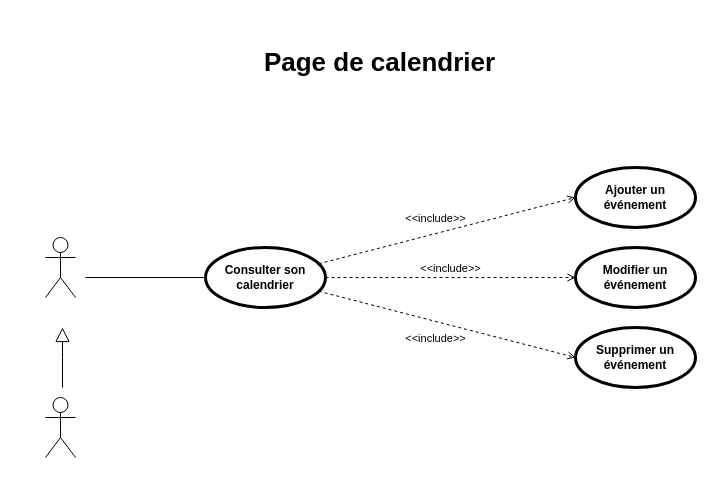
Some shapes in this 714 by 495 pixel diagram are drawn without their labels. The centre of each missing label's shape, as x and y in pixels:
"Eleve" goes at pixel 60 267.
"Tuteur bénévole" goes at pixel 60 427.
